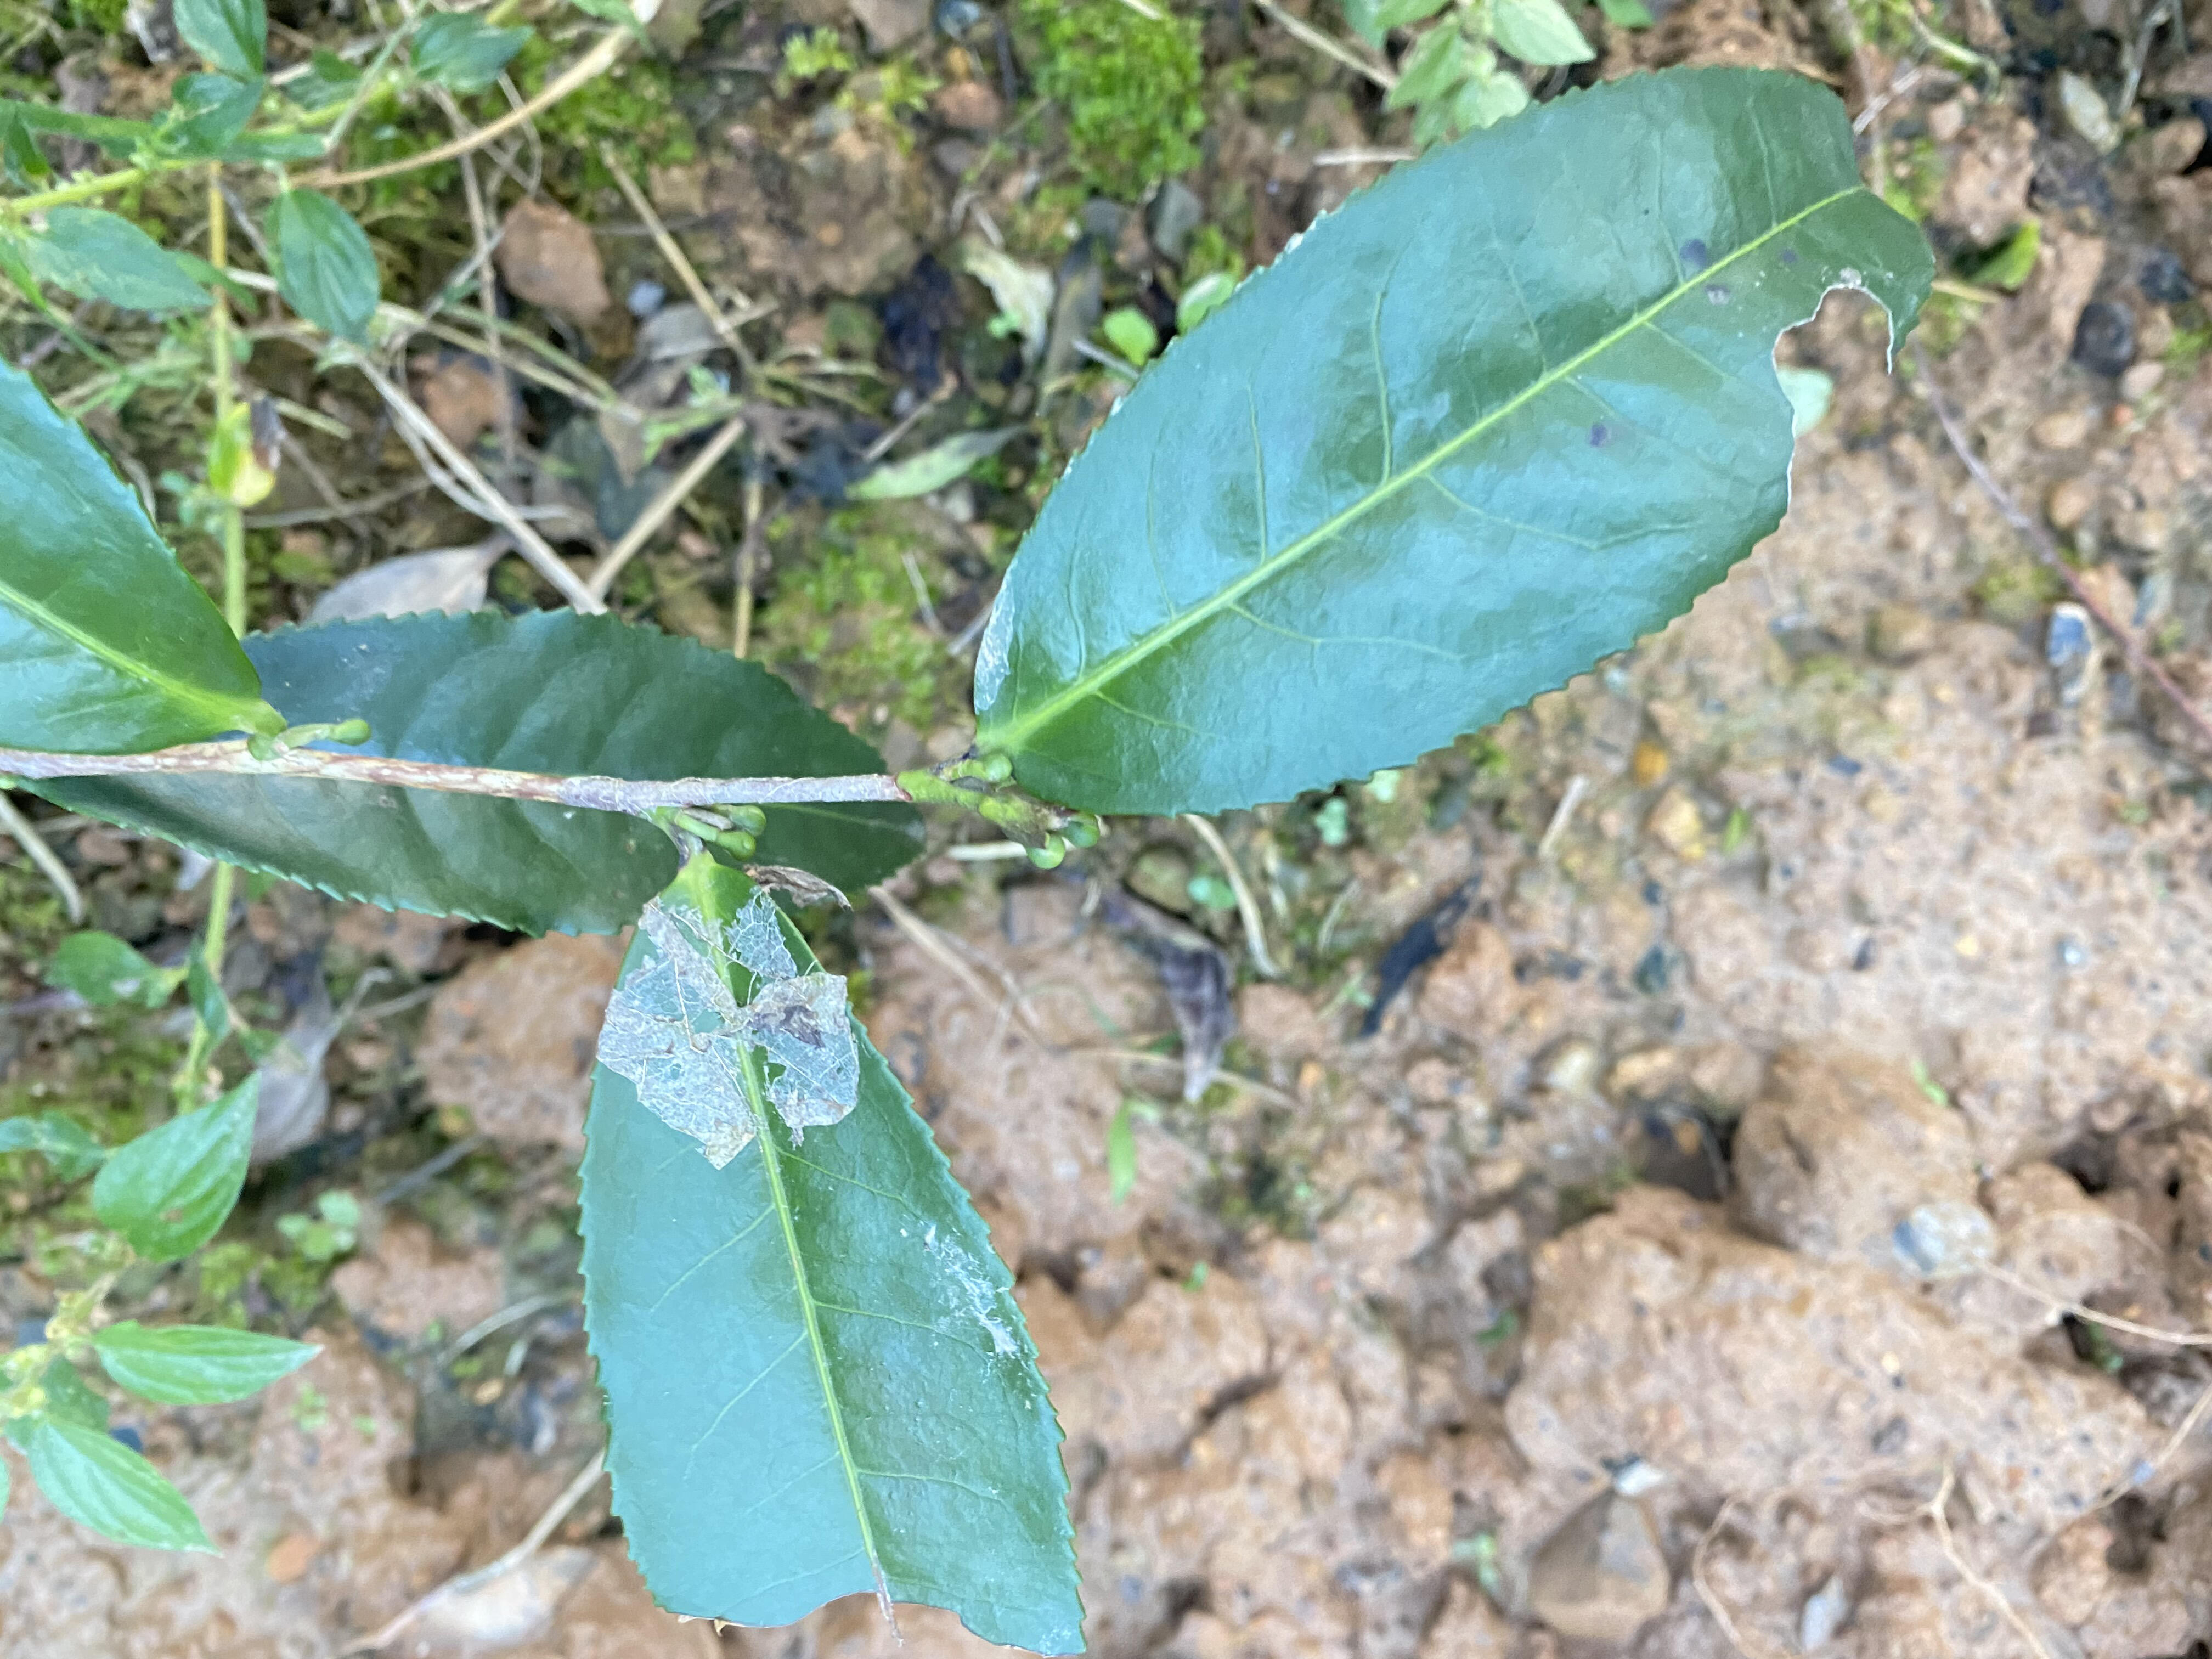chihuo_low: (974, 64, 1939, 819)
tanju_high: (573, 857, 1085, 1657)
